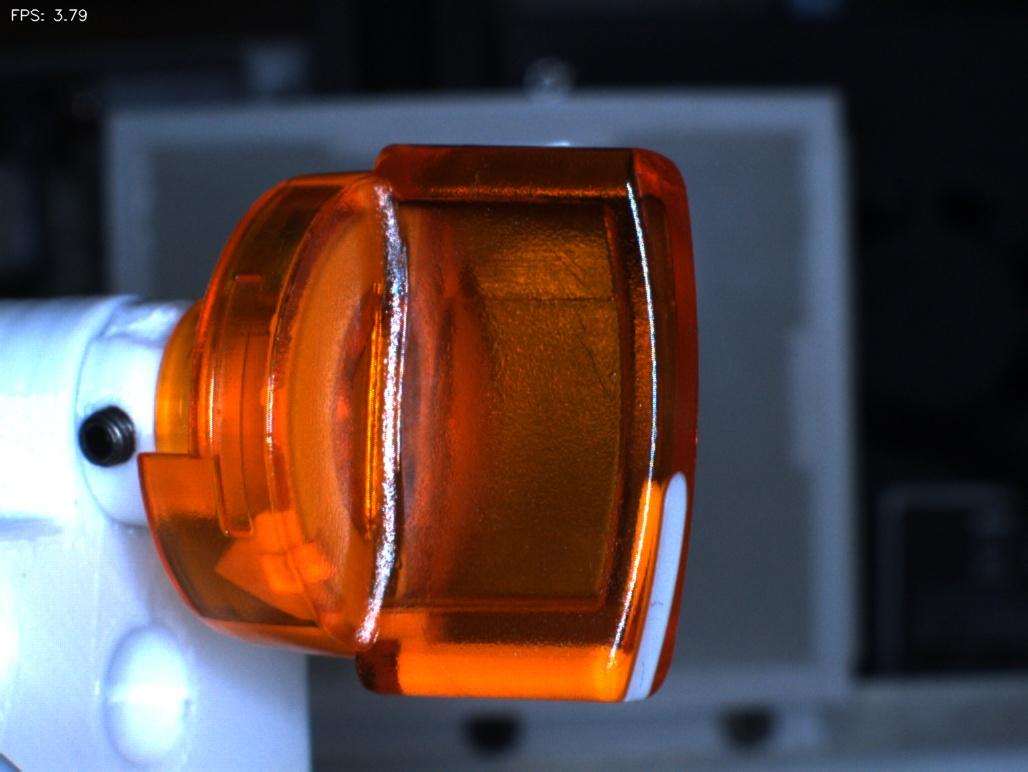Givrage: (500, 199, 616, 389)
